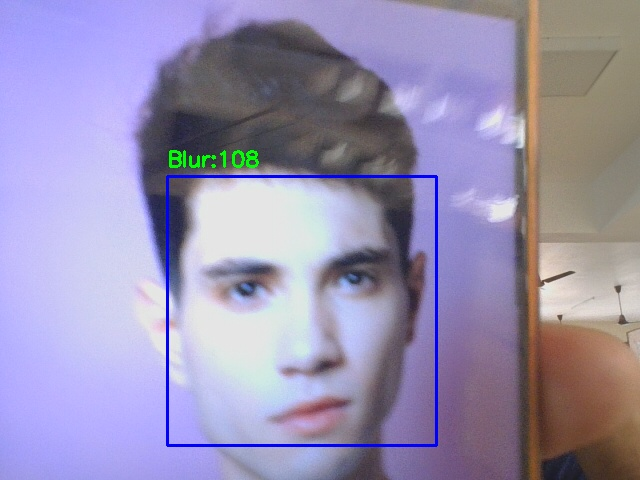fake: (167, 176, 436, 445)
